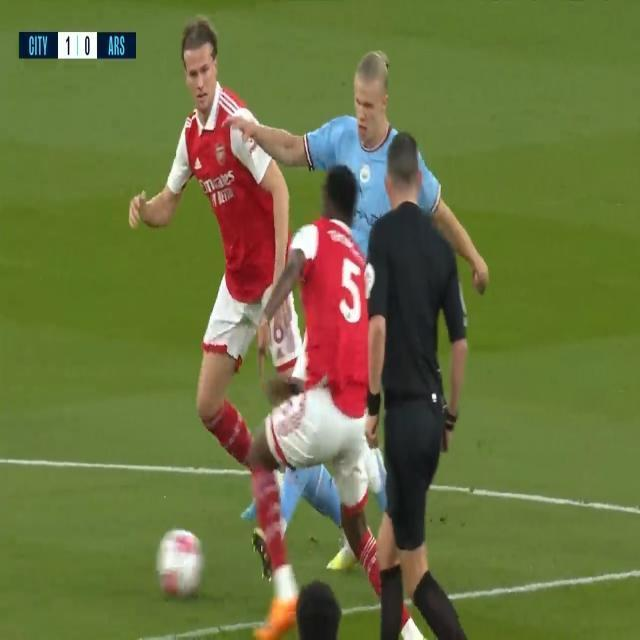ball: (143, 505, 217, 631)
player: (136, 21, 311, 447), (254, 169, 374, 640), (233, 45, 477, 269)
referee: (363, 114, 502, 640)
